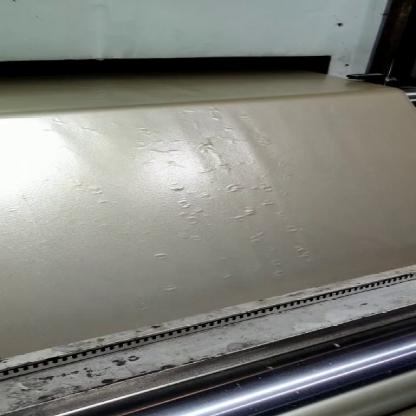Blisters: (119, 135, 186, 158), (173, 202, 210, 227), (217, 183, 248, 200), (229, 203, 258, 218), (194, 138, 222, 153), (162, 178, 186, 195), (137, 249, 168, 261), (281, 224, 307, 237), (254, 182, 273, 191)
